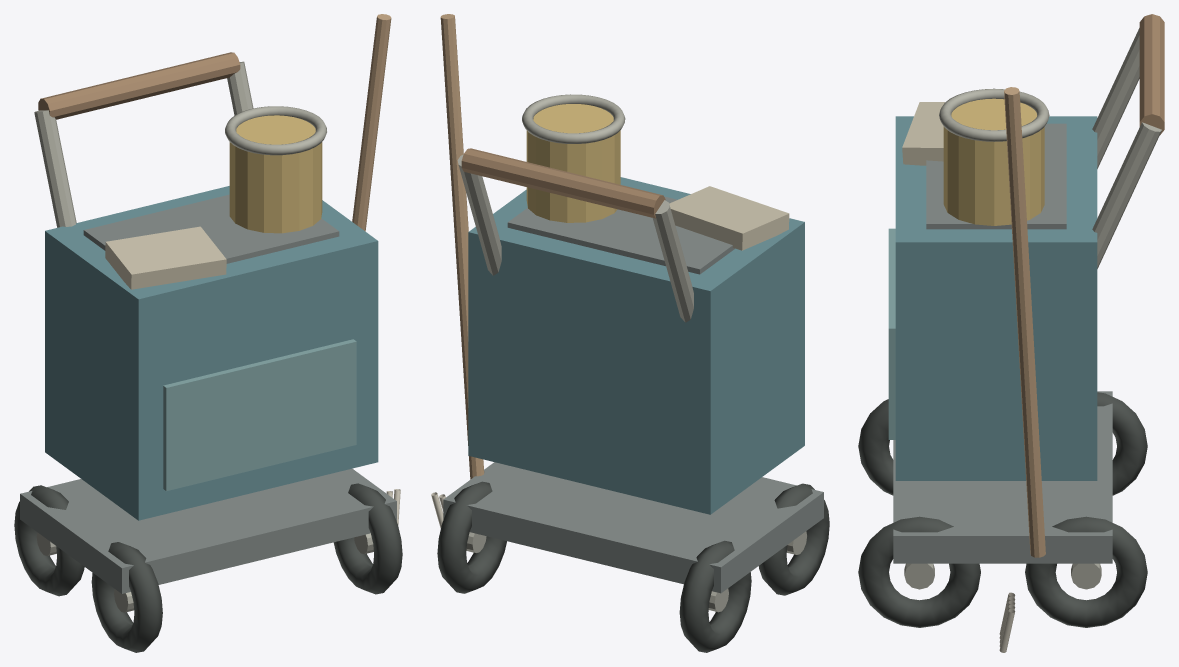
Rendered from corridor_cleaning_trolley.glb.
3 renders of one model, left to right at view 1: azimuth 30°, elevation 25°; view 2: azimuth 150°, elevation 25°; view 3: azimuth 270°, elevation 25°, orthographic. The views are drawn at different scales.
Parts seen in each view (by area): view 1: Trolley_main_bin, Trolley_lower_shelf, Trolley_front_panel, Mop_bucket, Trolley_inner_shadow, Folded_rag, Handle_grip, Trolley_wheel, Trolley_wheel.002, Trolley_wheel.001, Mop_handle, Handle_upright (+2 smaller); view 2: Trolley_main_bin, Trolley_lower_shelf, Mop_bucket, Trolley_inner_shadow, Mop_handle, Handle_grip, Folded_rag, Trolley_wheel.001, Trolley_wheel.003, Trolley_wheel, Bucket_rim, Handle_upright (+1 smaller); view 3: Trolley_main_bin, Trolley_lower_shelf, Mop_bucket, Mop_handle, Trolley_wheel.003, Trolley_wheel.002, Trolley_inner_shadow, Handle_upright.001, Handle_grip, Trolley_wheel.001, Bucket_rim, Handle_upright (+5 smaller).
Part boxes in pixels (x1=…): Trolley_main_bin: x1=45, y1=186, x2=378, y2=520; Trolley_lower_shelf: x1=20, y1=468, x2=396, y2=593; Trolley_front_panel: x1=163, y1=339, x2=356, y2=491; Mop_bucket: x1=229, y1=115, x2=322, y2=233; Trolley_inner_shadow: x1=83, y1=194, x2=339, y2=263; Folded_rag: x1=105, y1=226, x2=226, y2=289; Handle_grip: x1=38, y1=52, x2=240, y2=119; Trolley_wheel: x1=91, y1=542, x2=162, y2=652; Trolley_wheel.002: x1=333, y1=483, x2=402, y2=594; Trolley_wheel.001: x1=14, y1=485, x2=84, y2=596; Mop_handle: x1=352, y1=14, x2=391, y2=231; Handle_upright: x1=34, y1=110, x2=76, y2=227; Trolley_main_bin: x1=468, y1=177, x2=804, y2=514; Trolley_lower_shelf: x1=443, y1=462, x2=823, y2=593; Mop_bucket: x1=526, y1=104, x2=620, y2=222; Trolley_inner_shadow: x1=507, y1=196, x2=734, y2=274; Mop_handle: x1=440, y1=14, x2=484, y2=479; Handle_grip: x1=461, y1=148, x2=665, y2=218; Folded_rag: x1=669, y1=186, x2=789, y2=250; Trolley_wheel.001: x1=679, y1=540, x2=751, y2=652; Trolley_wheel.003: x1=437, y1=481, x2=506, y2=593; Trolley_wheel: x1=758, y1=483, x2=829, y2=595; Bucket_rim: x1=522, y1=94, x2=625, y2=143; Handle_upright: x1=652, y1=200, x2=693, y2=322; Trolley_main_bin: x1=895, y1=116, x2=1097, y2=480; Trolley_lower_shelf: x1=893, y1=391, x2=1112, y2=563; Mop_bucket: x1=943, y1=98, x2=1044, y2=225; Mop_handle: x1=1004, y1=87, x2=1045, y2=557; Trolley_wheel.003: x1=1025, y1=516, x2=1147, y2=627; Trolley_wheel.002: x1=858, y1=516, x2=980, y2=627; Trolley_inner_shadow: x1=926, y1=123, x2=1066, y2=229; Handle_upright.001: x1=1092, y1=122, x2=1161, y2=268; Handle_grip: x1=1139, y1=14, x2=1164, y2=134; Trolley_wheel.001: x1=1097, y1=392, x2=1147, y2=495; Bucket_rim: x1=939, y1=88, x2=1049, y2=141; Handle_upright: x1=1092, y1=28, x2=1139, y2=168.
Bounding box in the file's own units: 0.9459 × 1.43 × 0.6985.
